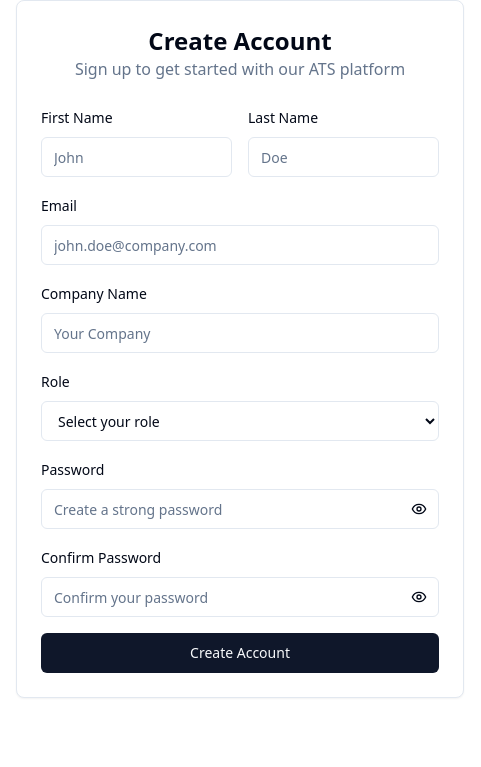
RegisterForm Validation › should show email suggestions for common typos
// Type email with common typo
Type "user@gmail.co" into the field labelled "Email".
click(240, 245); type("user@gmail.co")  # box [41, 225, 439, 265]
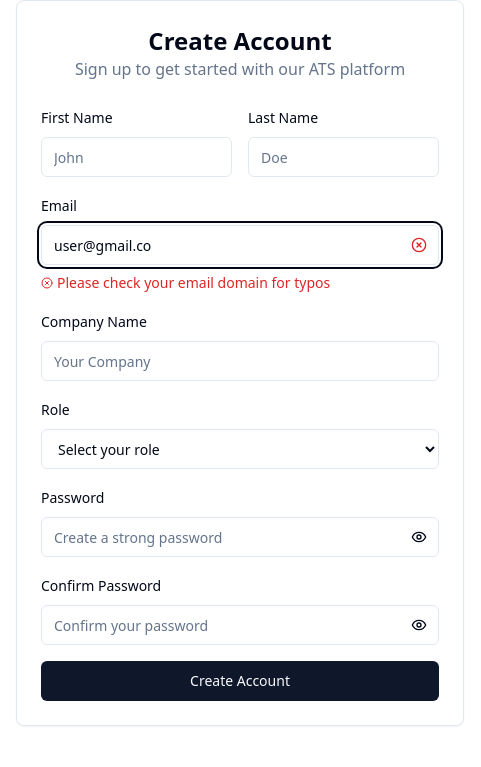
Press Tab
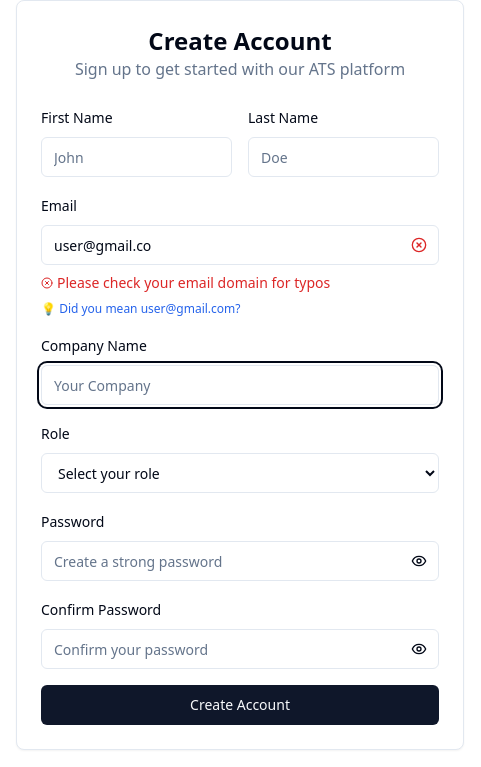
Result: the text "💡 Did you mean user@gmail.com?" is shown at [41, 300, 240, 317]
